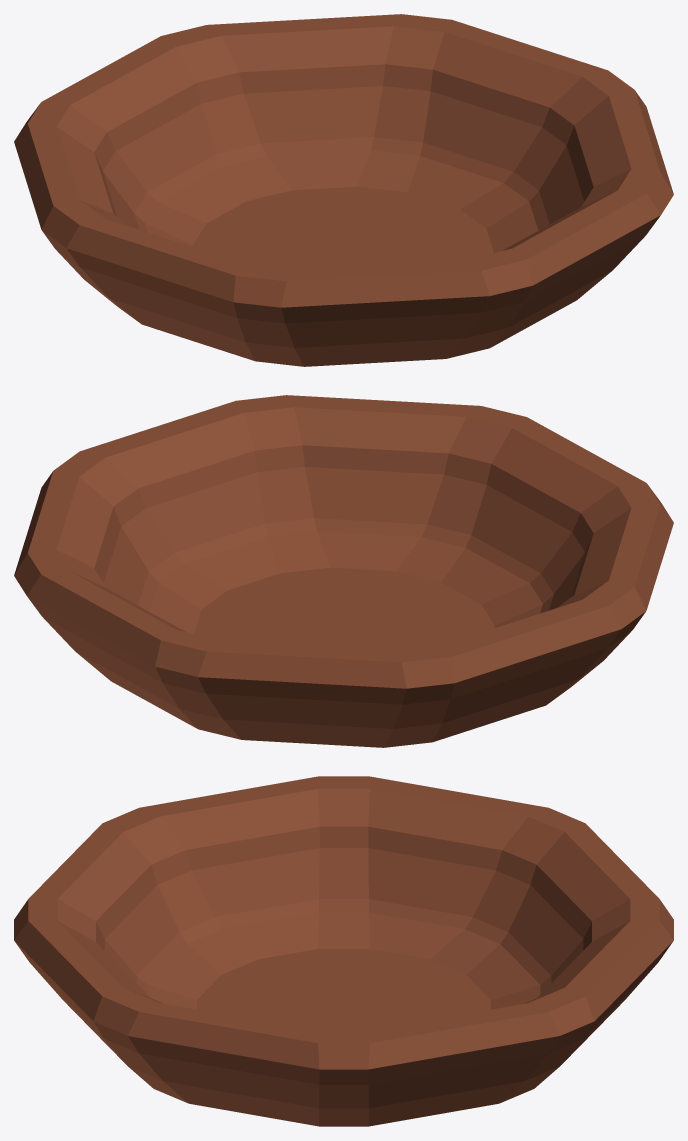
The model's file is prato 2.fbx.
3 renders of one model, top to bottom at view 1: azimuth 30°, elevation 25°; view 2: azimuth 150°, elevation 25°; view 3: azimuth 270°, elevation 25°, orthographic.
Visible parts, largest first — view 1: prato_2; view 2: prato_2; view 3: prato_2.
Boxes of the visible parts, box(x1,y1,x2,y2) form: prato_2: box(14, 14, 673, 366); prato_2: box(14, 395, 673, 747); prato_2: box(14, 776, 673, 1126).
Size of the model in its own units: 370 by 80.99 by 370.
